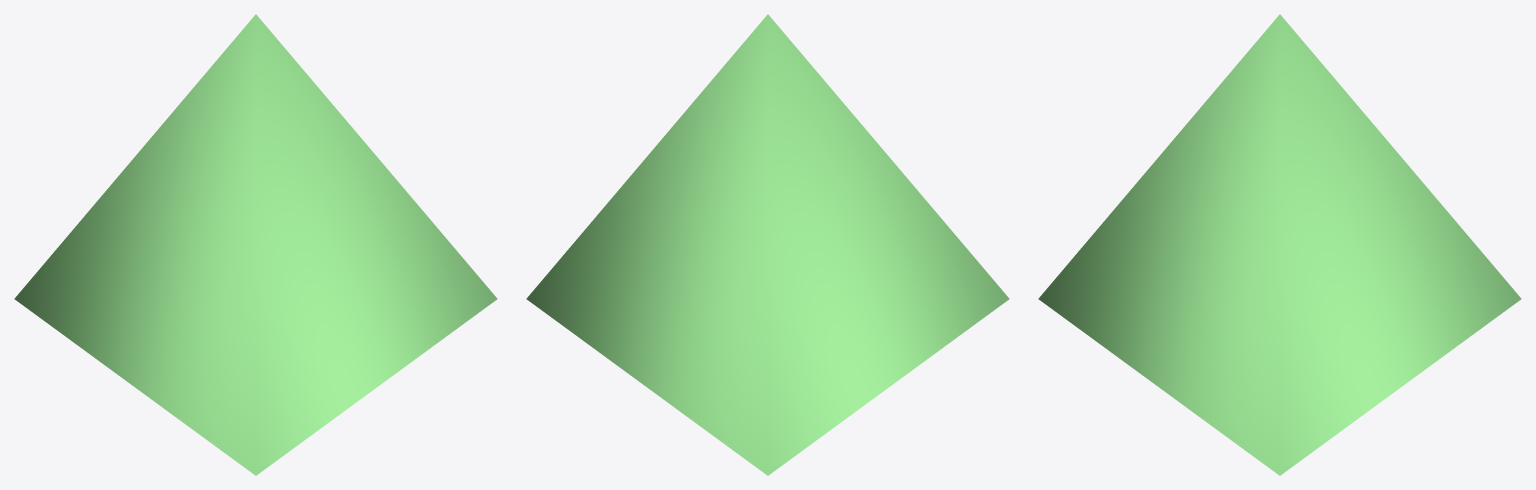
Rendered from Modé_Gemme_Brut_Verte.FBX.
3 renders of one model, left to right at view 1: azimuth 30°, elevation 25°; view 2: azimuth 150°, elevation 25°; view 3: azimuth 270°, elevation 25°, orthographic.
Visible parts, largest first — view 1: Gemme brut verte; view 2: Gemme brut verte; view 3: Gemme brut verte.
Part boxes in pixels (x1,y1,x2,y2): Gemme brut verte: [14, 14, 497, 475]; Gemme brut verte: [526, 14, 1009, 475]; Gemme brut verte: [1038, 14, 1521, 475].
Size of the model in its own units: 20.37 by 18.47 by 23.52.
